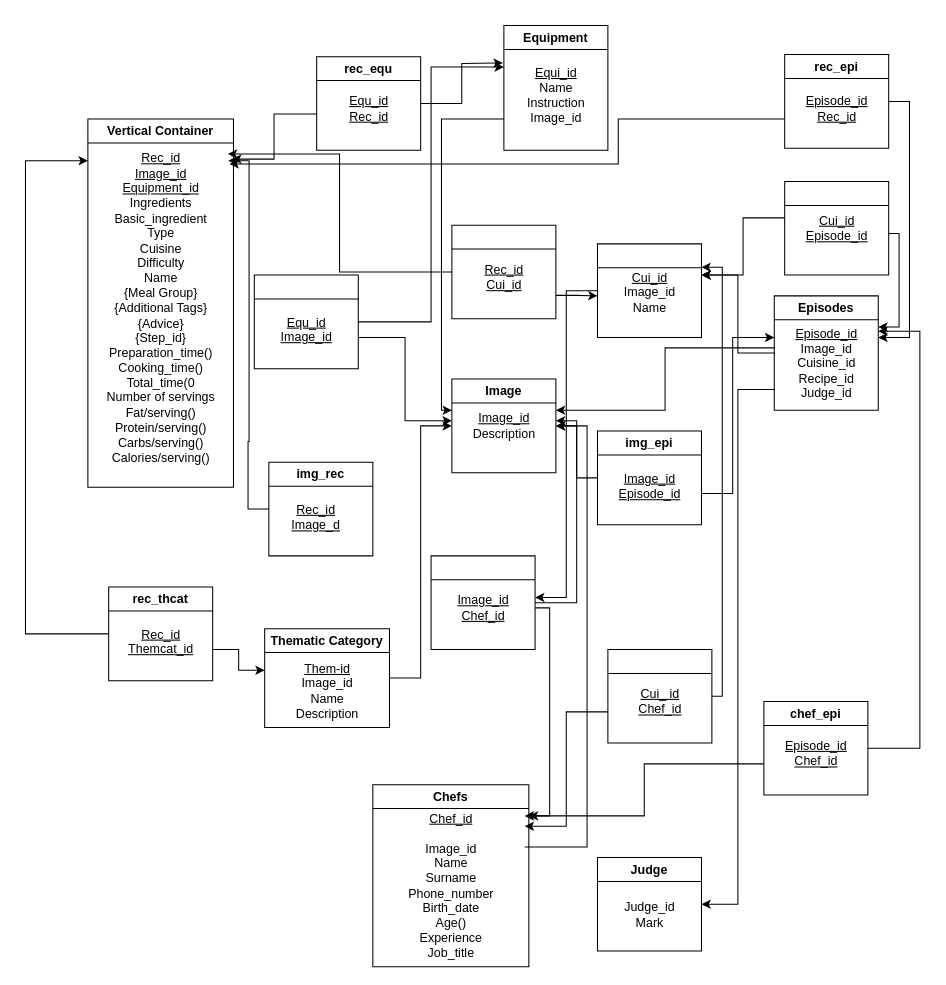
Image size: 946x985. Some labels were removed from this diagram. The shapes that lost their labels are listed below. From the top down, each one's box as (x1, y1, x2, y2) in pixels, then its label:
(784, 180, 889, 275): cui_epi
(451, 224, 556, 319): rec_cui
(596, 243, 701, 337): Cuisine
(253, 274, 358, 369): img_equ
(430, 555, 535, 649): img_chef
(607, 648, 712, 743): chef_cui
